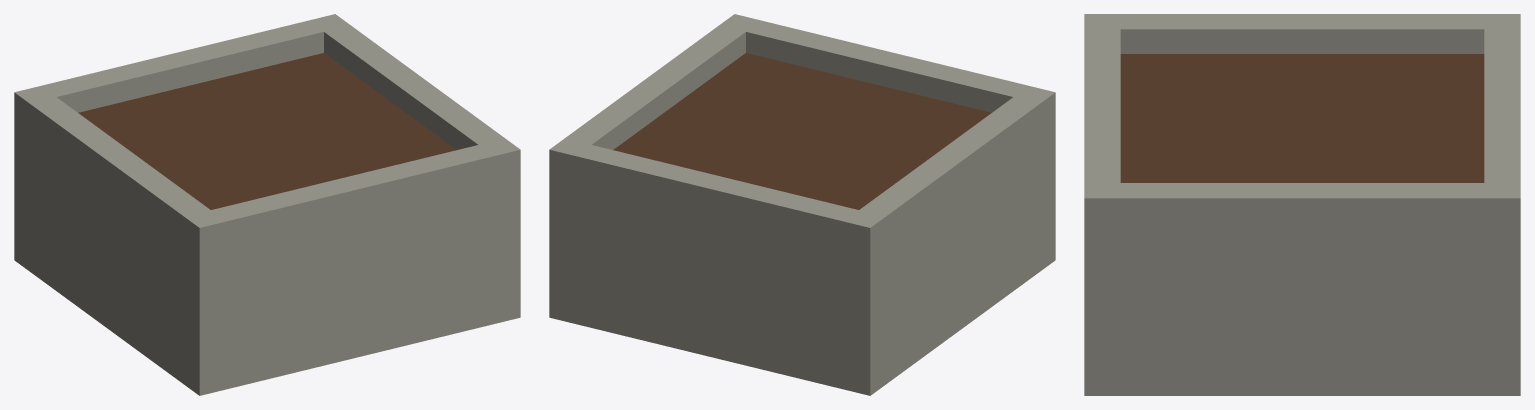
The model's file is planter_concrete.glb.
3 views of the same model, side by side, from view 1: azimuth 30°, elevation 25°; view 2: azimuth 150°, elevation 25°; view 3: azimuth 270°, elevation 25° (orthographic). The views are drawn at different scales.
Visible parts, largest first — view 1: planter_concrete; view 2: planter_concrete; view 3: planter_concrete.
Part boxes in pixels (x1=…): planter_concrete: x1=14, y1=14, x2=520, y2=395; planter_concrete: x1=549, y1=14, x2=1055, y2=395; planter_concrete: x1=1084, y1=14, x2=1520, y2=395.
Bounding box in the file's own units: 1.2 × 0.6 × 1.2.
Materials: 1 (1 with a texture image).
